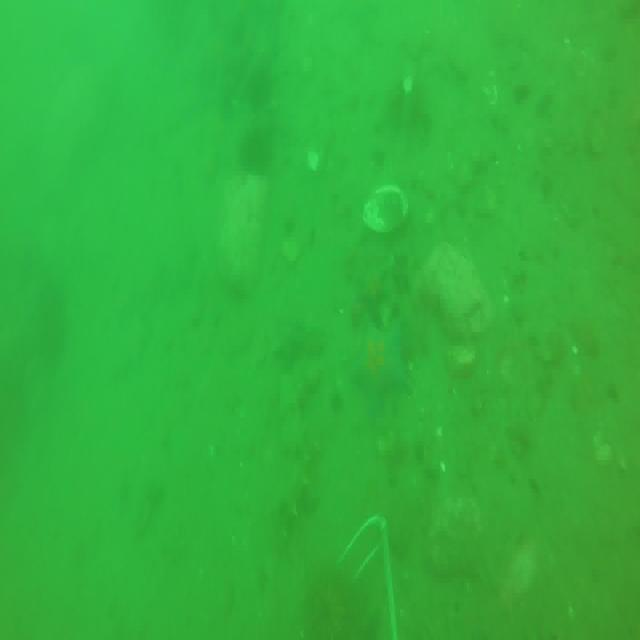echinus: (241, 117, 271, 178)
holothurian: (270, 458, 308, 550)
scallop: (362, 186, 411, 232)
starfish: (349, 324, 412, 414)
